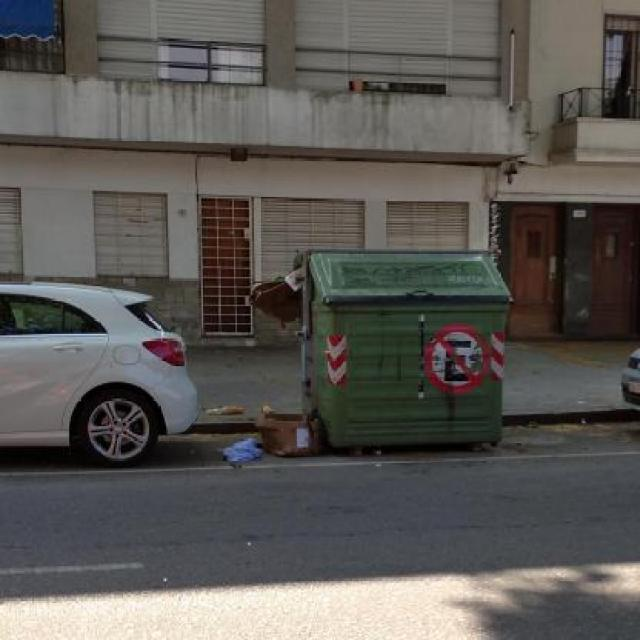garbage: (216, 398, 327, 470), (243, 256, 318, 340)
